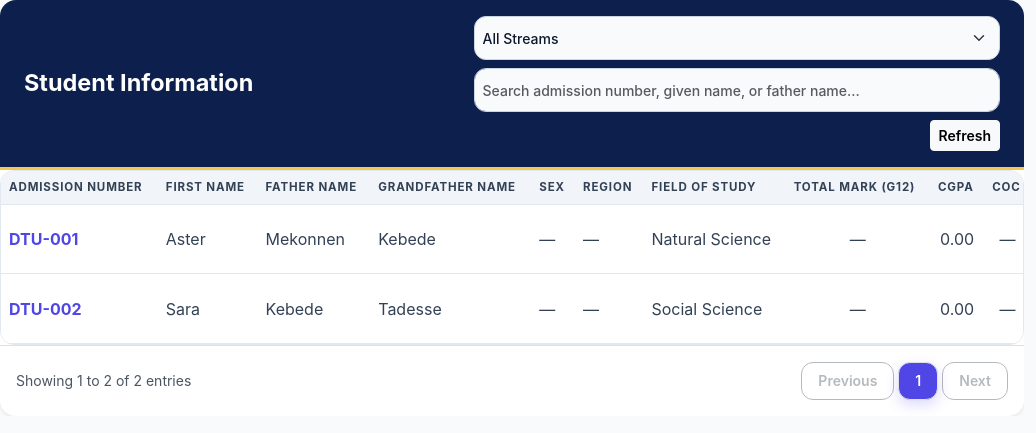
Test: StudentInformation › displays each student stream and filters the table by stream
Check: the text "Aster" is shown, box [158,205,258,274]
Check: the text "Mekonnen" is shown, box [258,205,370,274]
Select "Natural Science" in the dropdown named "Filter by stream" at [737, 38], box [474,16,1000,60]
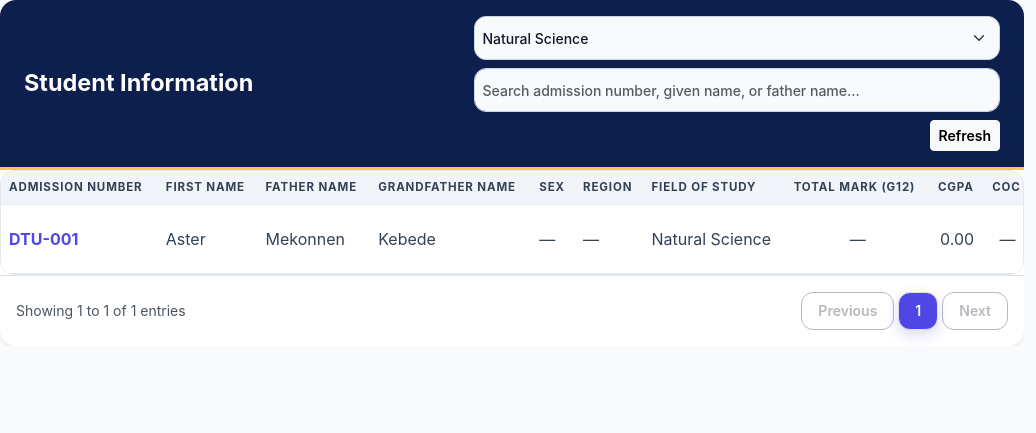
Check: the row "DTU-001" is shown, box [1,205,1024,274]
Check: the cell "DTU-002" is gone
